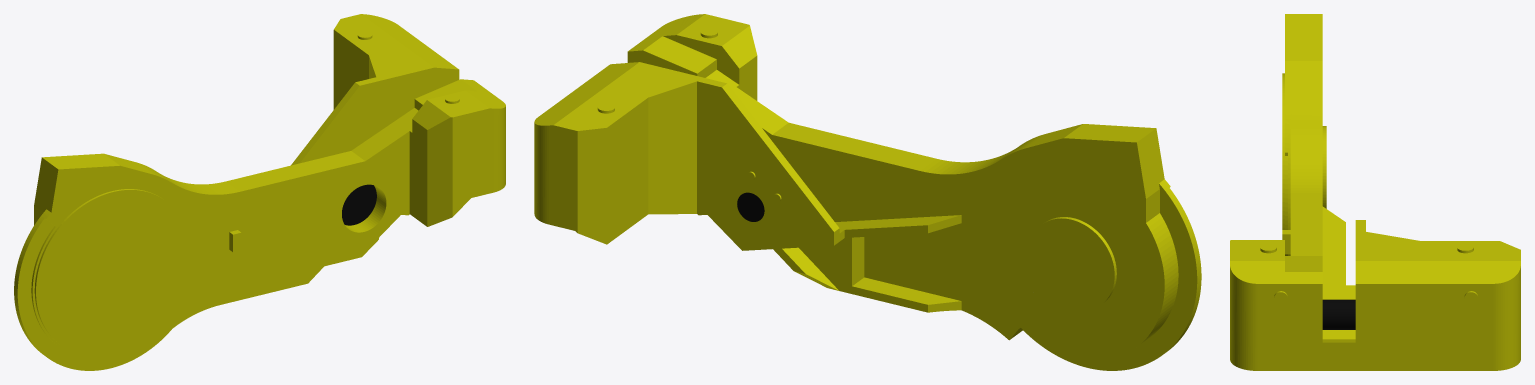
3 views of the same model, side by side, from view 1: azimuth 30°, elevation 25°; view 2: azimuth 150°, elevation 25°; view 3: azimuth 270°, elevation 25° (orthographic). The views are drawn at different scales.
Parts seen in each view (by area): view 1: node; view 2: node; view 3: node.
Part boxes in pixels (box(x1,y1,x2,y2)): node: box(14, 14, 505, 370); node: box(534, 14, 1201, 370); node: box(1230, 14, 1520, 370).
Bounding box in the file's own units: 2240 × 962 × 1056.
